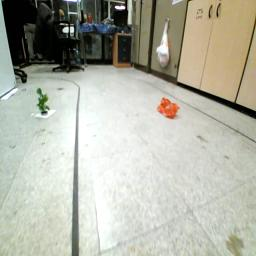herb: (37, 88, 52, 116)
wild: (159, 97, 182, 121)
